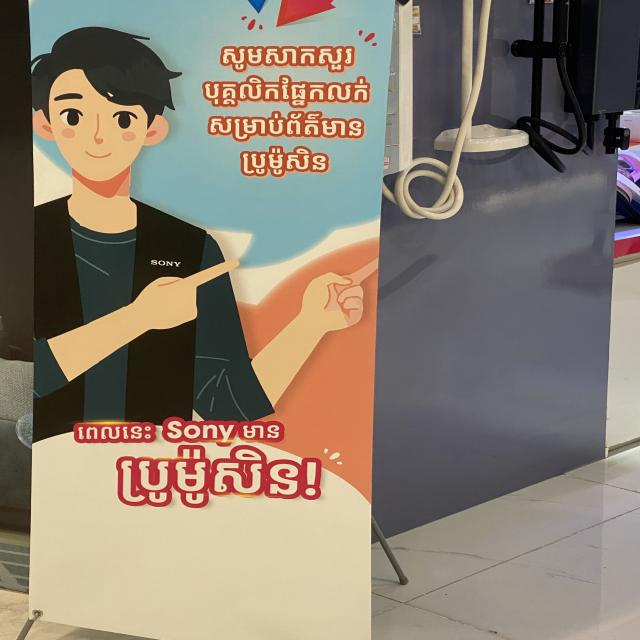Yolov11_80vkh: (100, 445, 333, 514), (191, 73, 375, 115), (201, 106, 371, 148), (218, 37, 365, 78), (231, 145, 336, 185), (70, 418, 159, 450), (234, 417, 287, 444)
